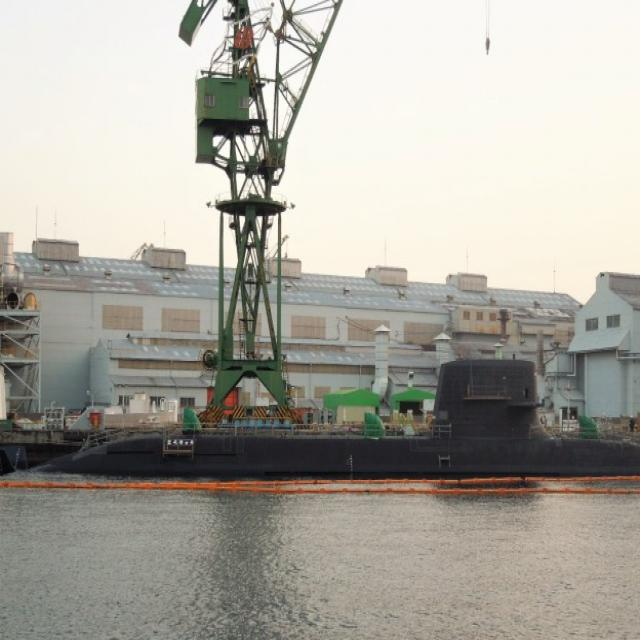submarine: (5, 346, 640, 493)
